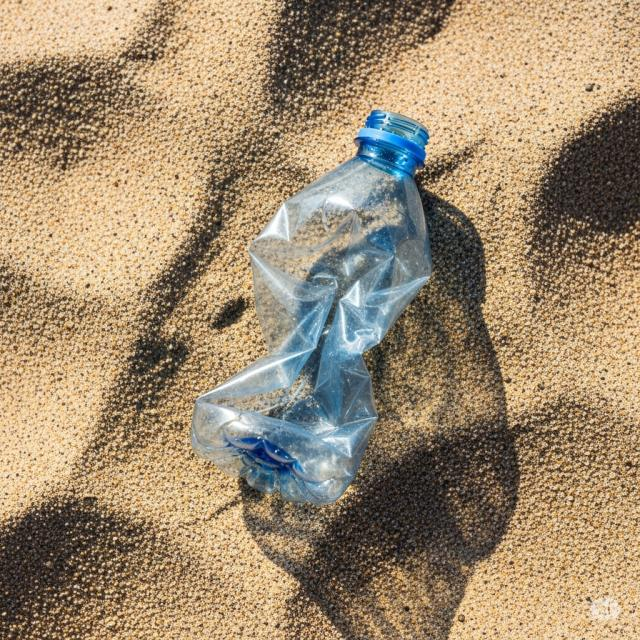plastic: (191, 109, 438, 507)
